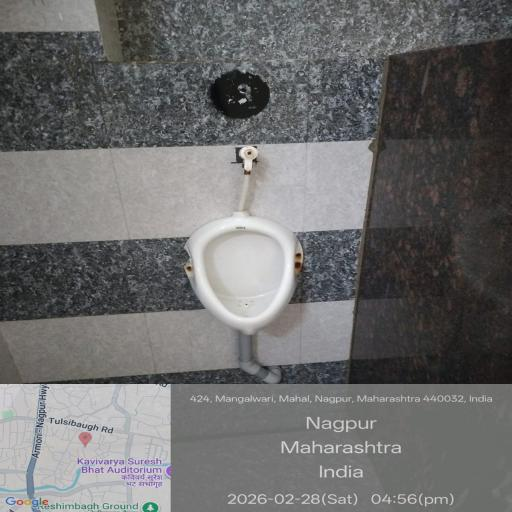clean_floor: (64, 60, 478, 488)
clean_urinal: (152, 153, 349, 361)
